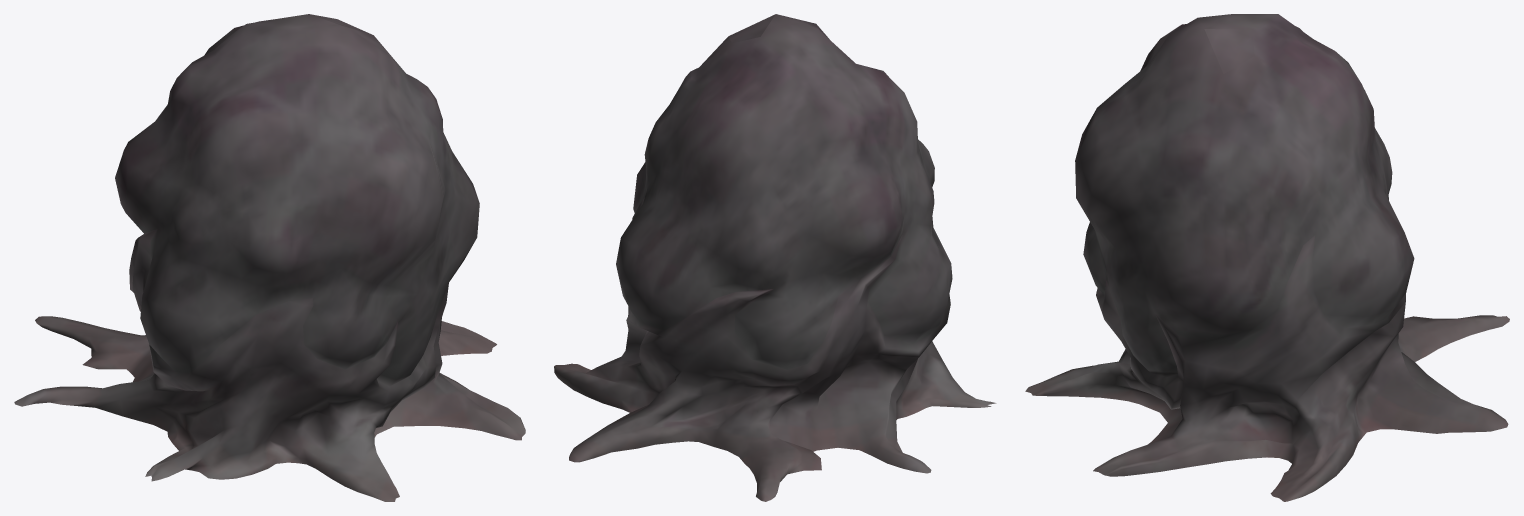
File: Cocoon (23).fbx
3 renders of one model, left to right at view 1: azimuth 30°, elevation 25°; view 2: azimuth 150°, elevation 25°; view 3: azimuth 270°, elevation 25°, orthographic. The views are drawn at different scales.
Parts seen in each view (by area): view 1: Egg; view 2: Egg; view 3: Egg.
Part boxes in pixels (left/top/right/bottom): Egg: left=14, top=14, right=525, bottom=501; Egg: left=554, top=14, right=996, bottom=501; Egg: left=1025, top=14, right=1509, bottom=501.
Size of the model in its own units: 0.7184 by 0.6206 by 0.7079.
1 material, 1 textured.
